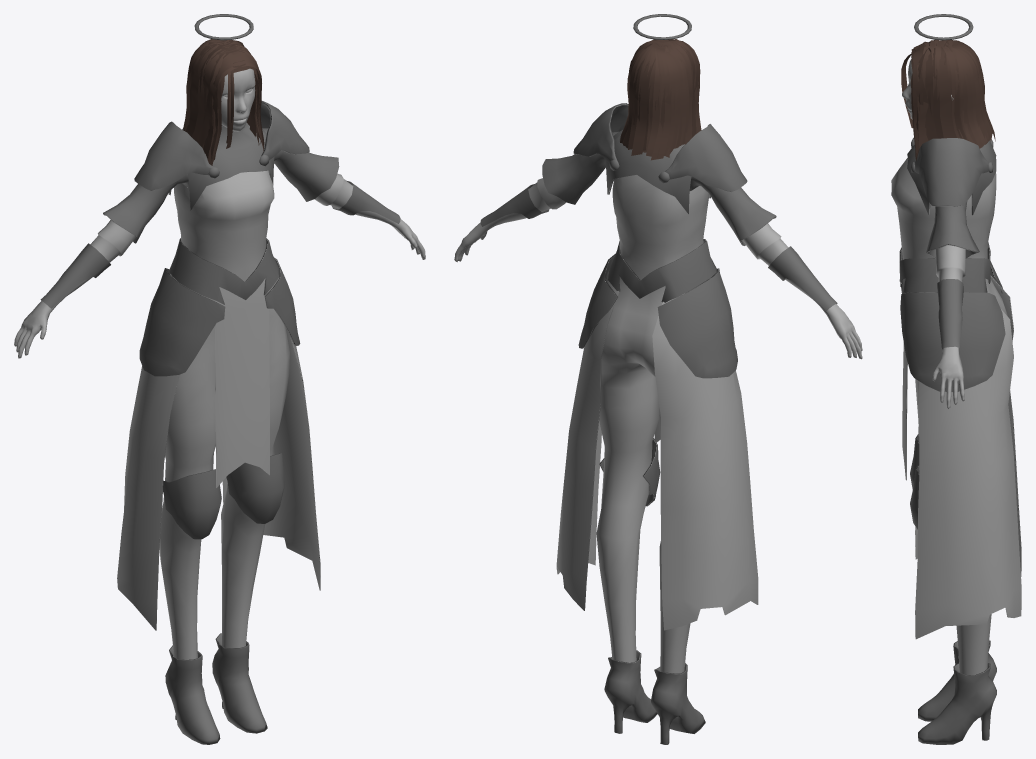
Rendered from angelLow.fbx.
3 renders of one model, left to right at view 1: azimuth 30°, elevation 25°; view 2: azimuth 150°, elevation 25°; view 3: azimuth 270°, elevation 25°, orthographic.
Parts seen in each view (by area): view 1: cuerpo_low, telaCostado_low, telaFrente_low, torso_low, cadera_low, botas_low, rodilleras_low, hombreras_low, mangas_low, cinturon_low, pechera_low, antebrazo_low (+2 smaller); view 2: telaCostado_low, cuerpo_low, cadera_low, torso_low, botas_low, hombreras_low, mangas_low, cinturon_low, antebrazo_low, pechera_low, polySurface8, polySurface15 (+2 smaller); view 3: telaCostado_low, cadera_low, botas_low, cuerpo_low, torso_low, hombreras_low, cinturon_low, mangas_low, antebrazo_low, pechera_low, polySurface13, rodilleras_low (+18 smaller).
Boxes of the visible parts, box(x1,y1,x2,y2) form: cuerpo_low: box(14, 173, 425, 659); telaCostado_low: box(117, 275, 320, 630); telaFrente_low: box(214, 278, 269, 487); torso_low: box(174, 170, 274, 281); cadera_low: box(139, 257, 300, 376); botas_low: box(165, 633, 267, 744); rodilleras_low: box(163, 453, 284, 539); hombreras_low: box(134, 101, 309, 190); mangas_low: box(103, 128, 339, 243); cinturon_low: box(169, 238, 278, 304); pechera_low: box(168, 122, 274, 210); antebrazo_low: box(40, 180, 400, 308); telaCostado_low: box(556, 270, 758, 630); cuerpo_low: box(454, 178, 862, 673); cadera_low: box(578, 254, 737, 378); torso_low: box(612, 175, 708, 280); botas_low: box(604, 650, 705, 744); hombreras_low: box(573, 103, 747, 192); mangas_low: box(542, 131, 776, 245); cinturon_low: box(608, 239, 716, 302); antebrazo_low: box(480, 184, 837, 310); pechera_low: box(605, 130, 710, 213); polySurface8: box(631, 58, 655, 155); polySurface15: box(651, 74, 671, 160); telaCostado_low: box(915, 275, 1021, 639); cadera_low: box(900, 261, 1005, 391); botas_low: box(918, 640, 996, 744); cuerpo_low: box(915, 245, 1007, 675); torso_low: box(891, 157, 996, 259); hombreras_low: box(914, 138, 988, 206); cinturon_low: box(899, 242, 990, 293); mangas_low: box(926, 201, 979, 258); antebrazo_low: box(937, 279, 963, 349); pechera_low: box(907, 140, 996, 215); polySurface13: box(955, 54, 982, 147); rodilleras_low: box(910, 434, 919, 529).
Size of the model in its own units: 2.18 by 3.6 by 0.6058.
